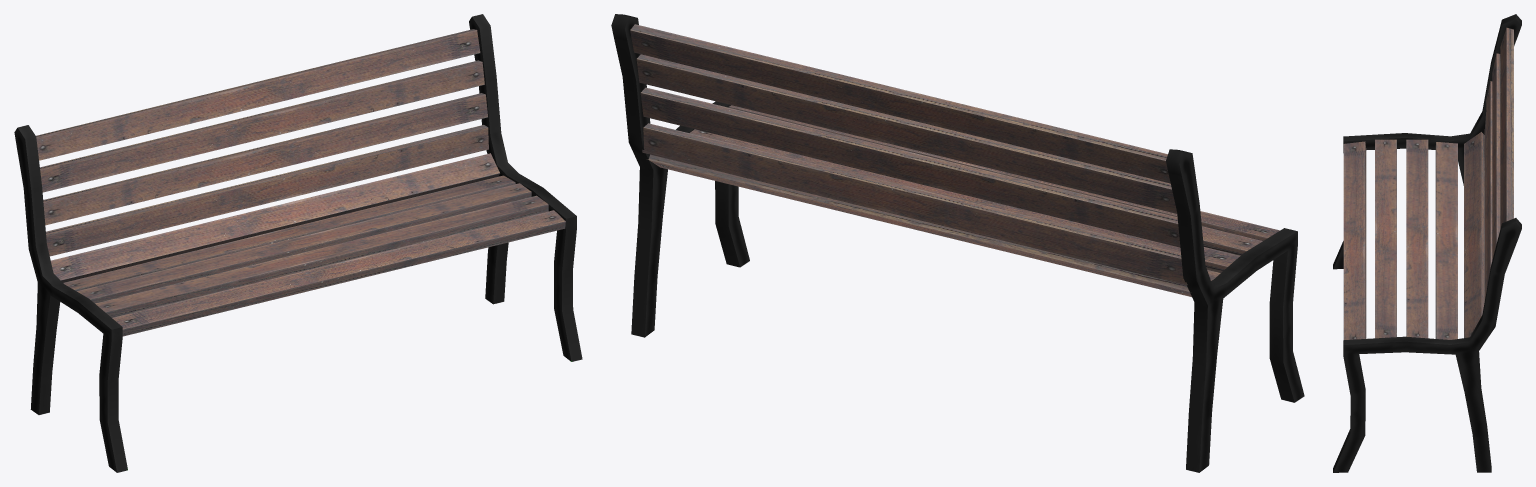
The model's file is ModelPArkBench.FBX.
3 renders of one model, left to right at view 1: azimuth 30°, elevation 25°; view 2: azimuth 150°, elevation 25°; view 3: azimuth 270°, elevation 25°, orthographic. The views are drawn at different scales.
Visible parts, largest first — view 1: Bench; view 2: Bench; view 3: Bench.
Part boxes in pixels (bbox=[...]): Bench: bbox=[14, 14, 582, 472]; Bench: bbox=[611, 14, 1304, 472]; Bench: bbox=[1333, 14, 1521, 472].
Size of the model in its own units: 59.59 by 33.34 by 22.78.
Materials: 1 (1 with a texture image).
